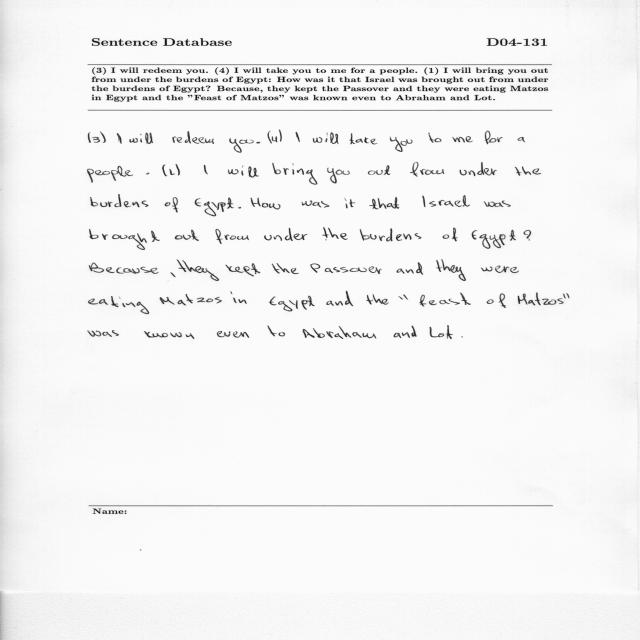word: (89, 229, 160, 250), (89, 296, 149, 314), (272, 163, 317, 185), (303, 326, 376, 339), (177, 260, 219, 281), (360, 228, 422, 242), (89, 262, 159, 274), (472, 230, 516, 249), (87, 166, 133, 183), (91, 195, 149, 208), (195, 198, 234, 217), (419, 293, 471, 307), (310, 264, 382, 274), (269, 296, 315, 311), (160, 294, 222, 305), (436, 260, 466, 281), (518, 293, 564, 306), (422, 195, 470, 207), (264, 228, 308, 241), (172, 131, 214, 144), (460, 162, 497, 176), (410, 162, 444, 177), (215, 229, 249, 244), (226, 264, 261, 277), (326, 291, 353, 306), (144, 331, 194, 339), (229, 138, 254, 153), (369, 197, 399, 209), (397, 262, 424, 275), (390, 137, 413, 152), (327, 168, 350, 183), (228, 167, 259, 178), (322, 228, 348, 241), (251, 198, 281, 209), (430, 325, 453, 339), (350, 134, 378, 145), (272, 263, 299, 274), (487, 293, 506, 308), (394, 326, 417, 338), (481, 266, 519, 273), (129, 133, 153, 144), (175, 230, 199, 241), (515, 166, 541, 176), (367, 294, 389, 305), (485, 131, 503, 144), (217, 331, 249, 338), (230, 291, 247, 304), (368, 165, 390, 175), (88, 330, 119, 337), (443, 228, 458, 242), (165, 197, 178, 213), (267, 326, 285, 337), (302, 201, 330, 208), (484, 201, 511, 207), (325, 133, 339, 144), (452, 136, 473, 143), (429, 132, 442, 143), (268, 131, 278, 144), (345, 199, 355, 208), (100, 131, 106, 143), (524, 230, 531, 240), (313, 137, 323, 143), (162, 165, 167, 177), (117, 133, 122, 144), (175, 164, 180, 175), (399, 295, 409, 300), (93, 137, 100, 143), (296, 132, 300, 142), (279, 130, 282, 142), (169, 169, 175, 175), (204, 165, 208, 174), (518, 137, 525, 142), (88, 132, 91, 143), (170, 272, 176, 277), (563, 294, 569, 299), (257, 142, 261, 144), (146, 173, 149, 175), (238, 207, 241, 209), (461, 337, 463, 338)
